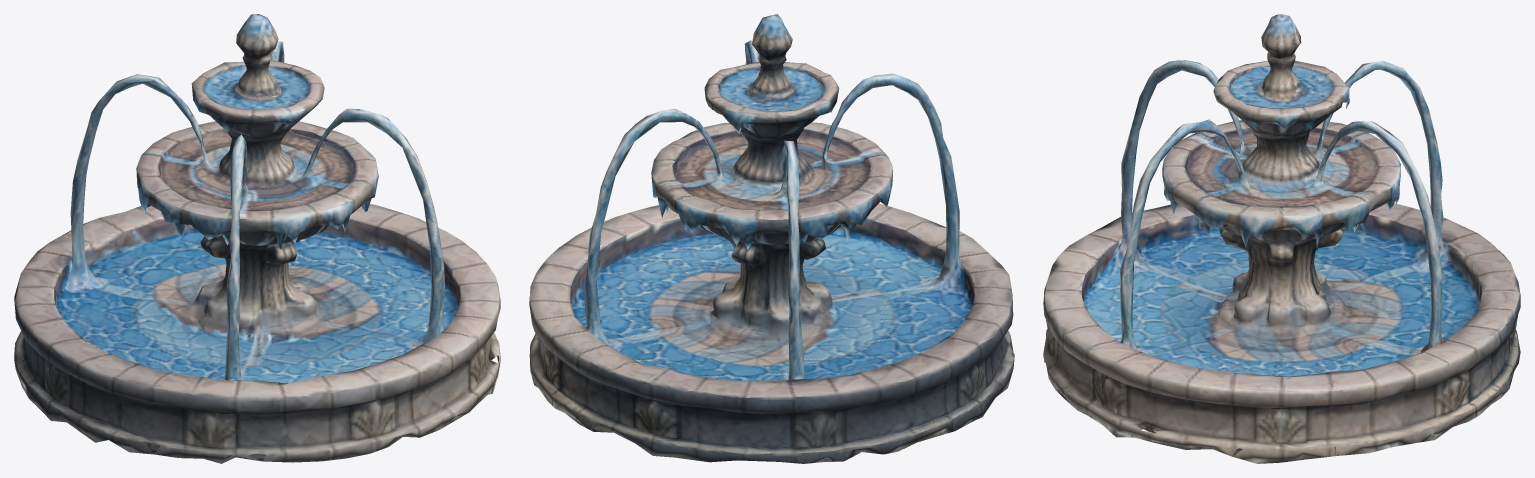
File: 롯데_분수대.glb
3 views of the same model, side by side, from view 1: azimuth 30°, elevation 25°; view 2: azimuth 150°, elevation 25°; view 3: azimuth 270°, elevation 25° (orthographic).
Visible parts, largest first — view 1: texture_mapping; view 2: texture_mapping; view 3: texture_mapping.
Boxes of the visible parts, bbox=[...] form: texture_mapping: bbox=[14, 14, 500, 463]; texture_mapping: bbox=[529, 14, 1014, 463]; texture_mapping: bbox=[1043, 14, 1520, 463].
Size of the model in its own units: 0.9976 by 0.8045 by 0.9959.
1 material, 1 textured.
